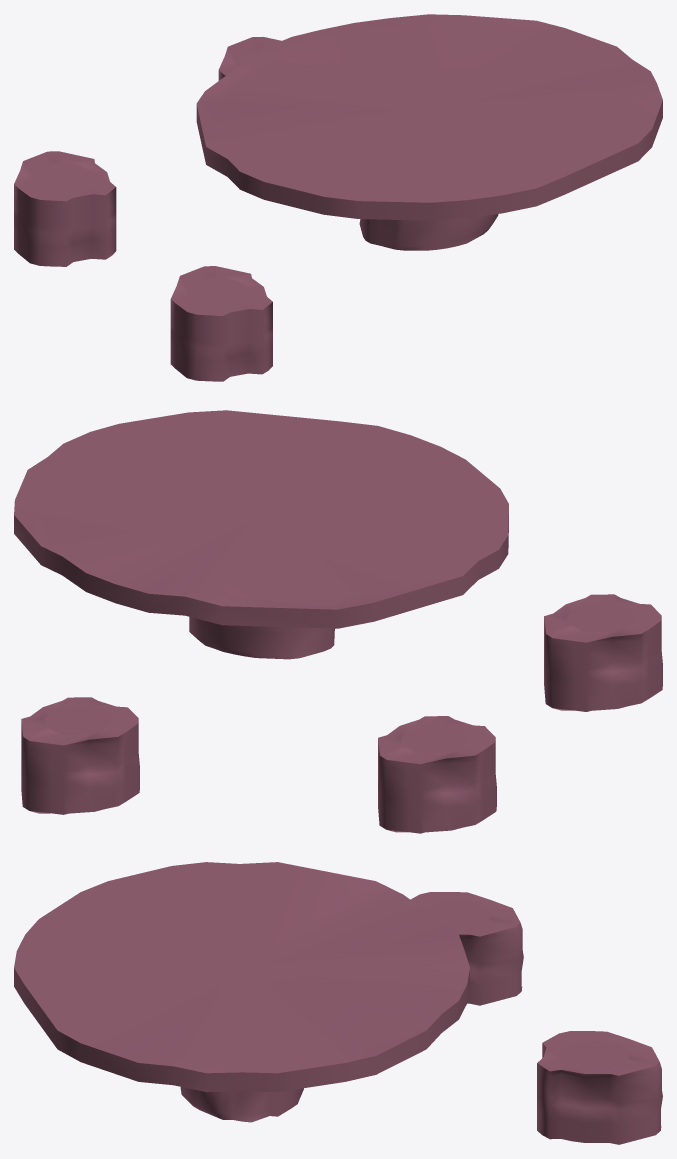
Rendered from stone_table_chairs.fbx.
3 renders of one model, top to bottom at view 1: azimuth 30°, elevation 25°; view 2: azimuth 150°, elevation 25°; view 3: azimuth 270°, elevation 25°, orthographic. The views are drawn at different scales.
Parts seen in each view (by area): view 1: gym_stone_table, gym_stone_chair4, gym_stone_chair1, gym_stone_chair5; view 2: gym_stone_table, gym_stone_chair4, gym_stone_chair1, gym_stone_chair5; view 3: gym_stone_table, gym_stone_chair5, gym_stone_chair1.
Boxes of the visible parts, x1=… form: gym_stone_table: x1=196, y1=14, x2=662, y2=250; gym_stone_chair4: x1=170, y1=266, x2=272, y2=381; gym_stone_chair1: x1=14, y1=151, x2=116, y2=266; gym_stone_chair5: x1=218, y1=37, x2=281, y2=80; gym_stone_table: x1=14, y1=410, x2=508, y2=659; gym_stone_chair4: x1=544, y1=594, x2=662, y2=711; gym_stone_chair1: x1=378, y1=716, x2=496, y2=833; gym_stone_chair5: x1=21, y1=697, x2=139, y2=814; gym_stone_table: x1=14, y1=862, x2=469, y2=1122; gym_stone_chair5: x1=537, y1=1031, x2=662, y2=1144; gym_stone_chair1: x1=410, y1=892, x2=523, y2=1005.
Bounding box in the file's own units: 12.94 × 3.53 × 13.42.
